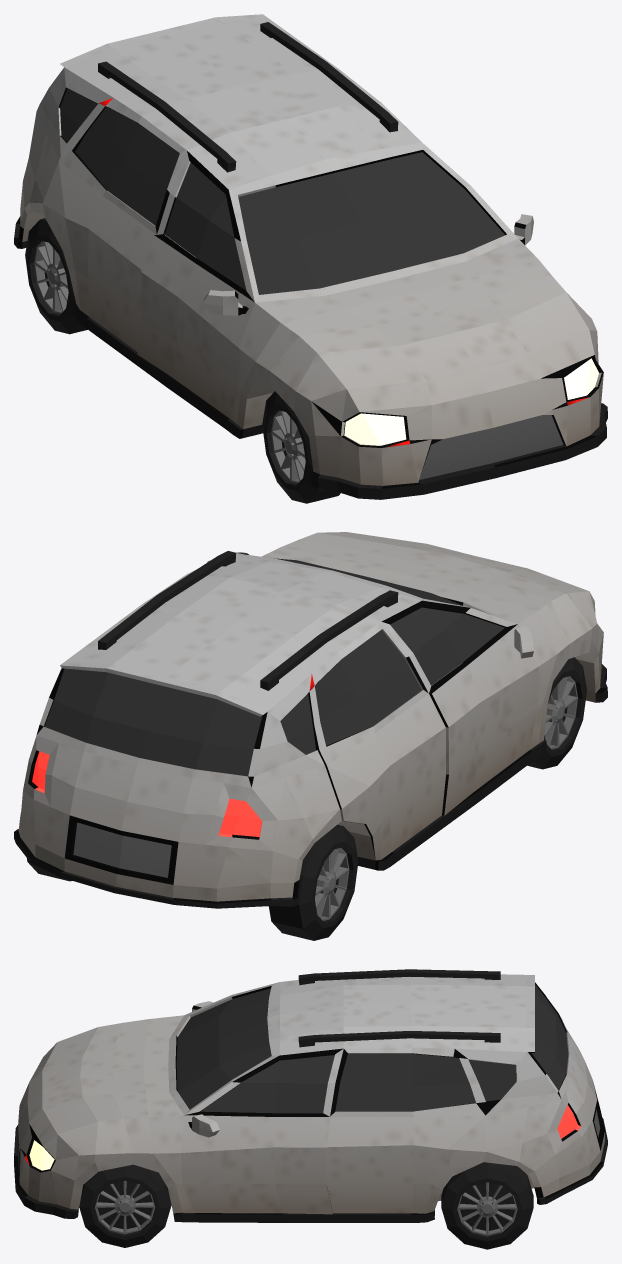
File: citypack-suv-L3.glb
The picture shows the model from 3 angles, top to bottom: view 1: azimuth 30°, elevation 25°; view 2: azimuth 150°, elevation 25°; view 3: azimuth 270°, elevation 25°; orthographic projection. The views are drawn at different scales.
Visible parts, largest first — view 1: body, wheel-front-left, wheel-back-left, wheel-front-left.1, wheel-back-left.1; view 2: body, wheel-back-left, wheel-front-left, wheel-back-left.1, wheel-front-left.1; view 3: body, wheel-back-right, wheel-front-right, wheel-front-right.1, wheel-back-right.1.
Boxes of the visible parts, x1,y1,x2,y2 form: body: (14, 14, 607, 499); wheel-front-left: (262, 391, 340, 503); wheel-back-left: (25, 218, 87, 334); wheel-front-left.1: (271, 410, 305, 483); wheel-back-left.1: (34, 241, 68, 314); body: (14, 532, 607, 908); wheel-back-left: (269, 824, 358, 940); wheel-front-left: (527, 657, 586, 769); wheel-back-left.1: (315, 848, 349, 920); wheel-front-left.1: (544, 676, 577, 749); body: (14, 969, 607, 1222); wheel-back-right: (441, 1162, 533, 1249); wheel-front-right: (79, 1164, 171, 1247); wheel-front-right.1: (95, 1180, 155, 1234); wheel-back-right.1: (457, 1182, 517, 1235).
Bounding box in the file's own units: 2.11 × 1.53 × 4.21.
Materials: 3 (1 with a texture image).
